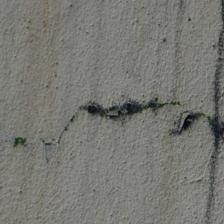Crack: (48, 94, 178, 145), (171, 109, 207, 136)
